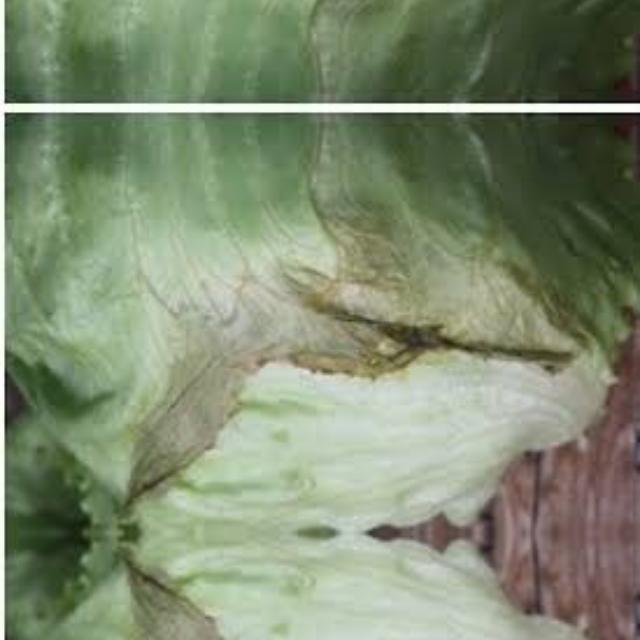Lettuce - Anthracnose: (17, 159, 589, 533), (17, 533, 589, 640), (17, 0, 589, 55)
